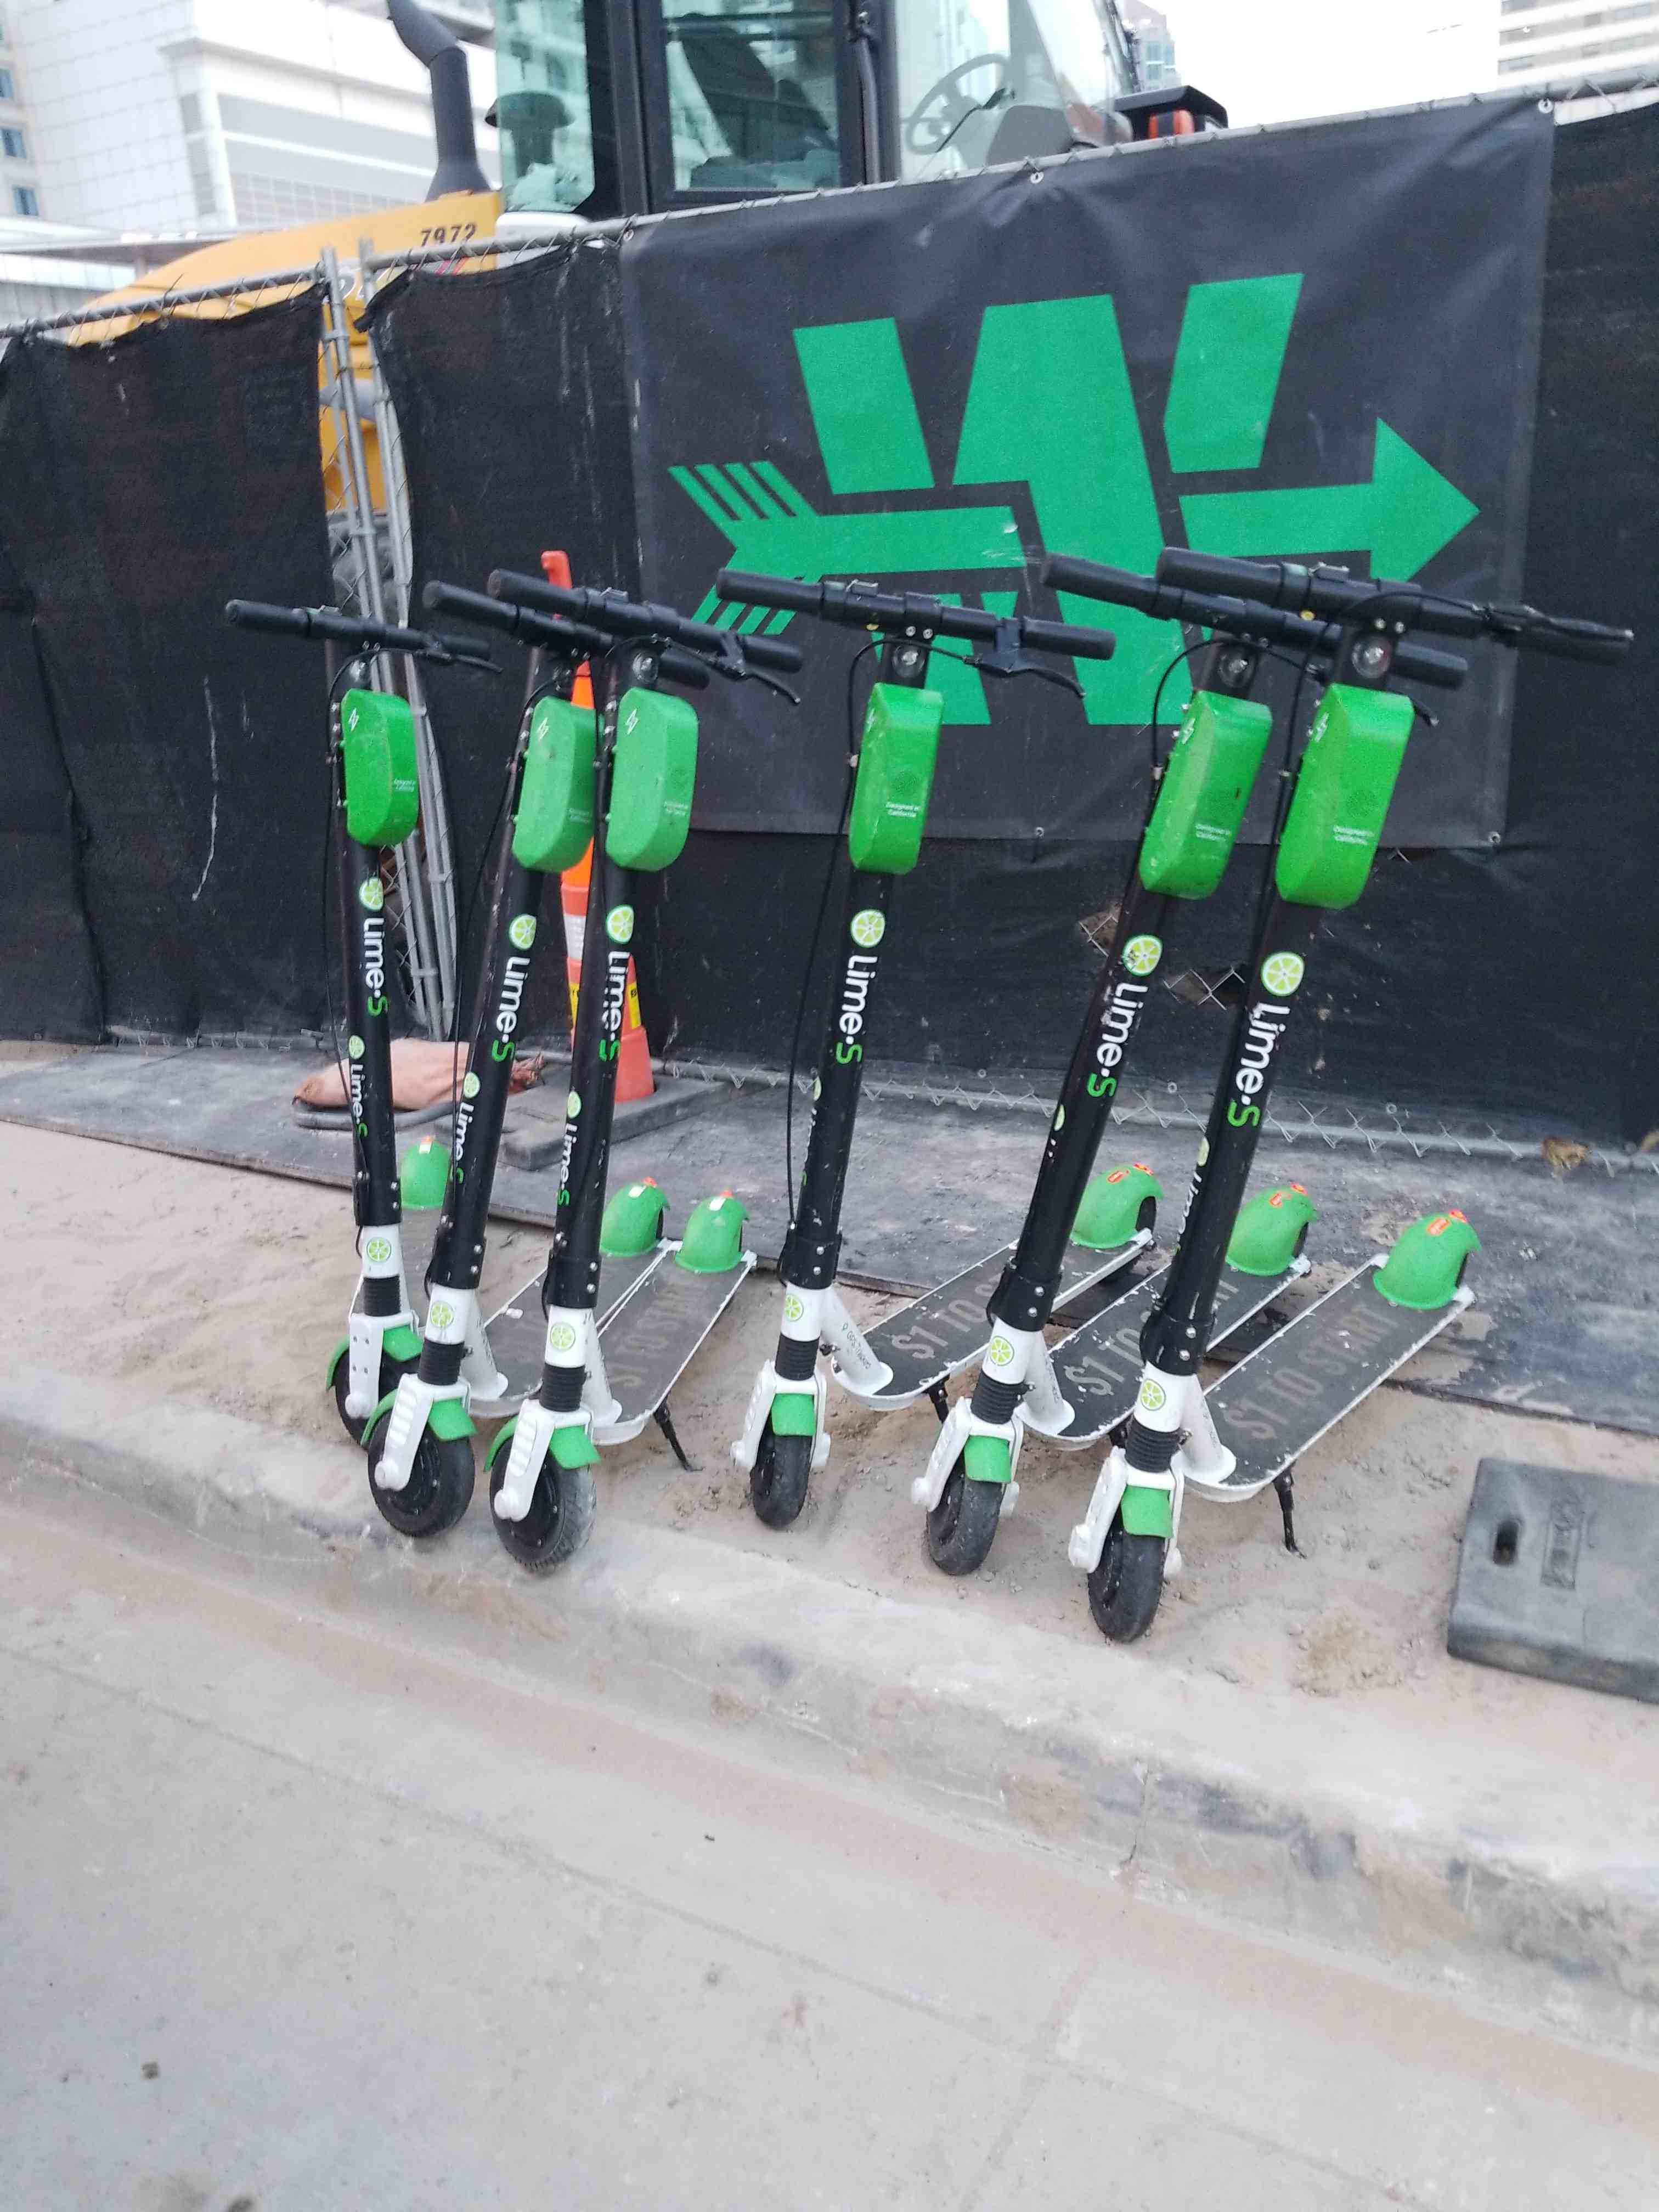too close: (488, 1366, 701, 1691), (281, 1392, 512, 1632)
